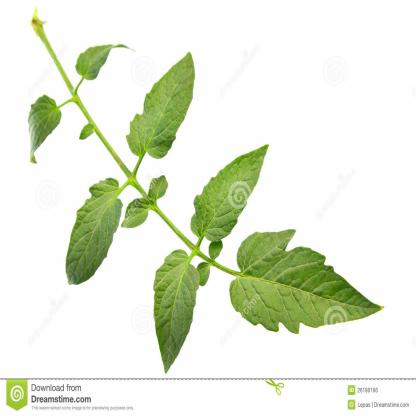tomato leaf: (234, 219, 389, 363), (108, 37, 212, 172), (132, 241, 226, 375), (43, 172, 128, 294), (193, 138, 279, 251), (74, 29, 134, 94), (18, 92, 67, 171)
